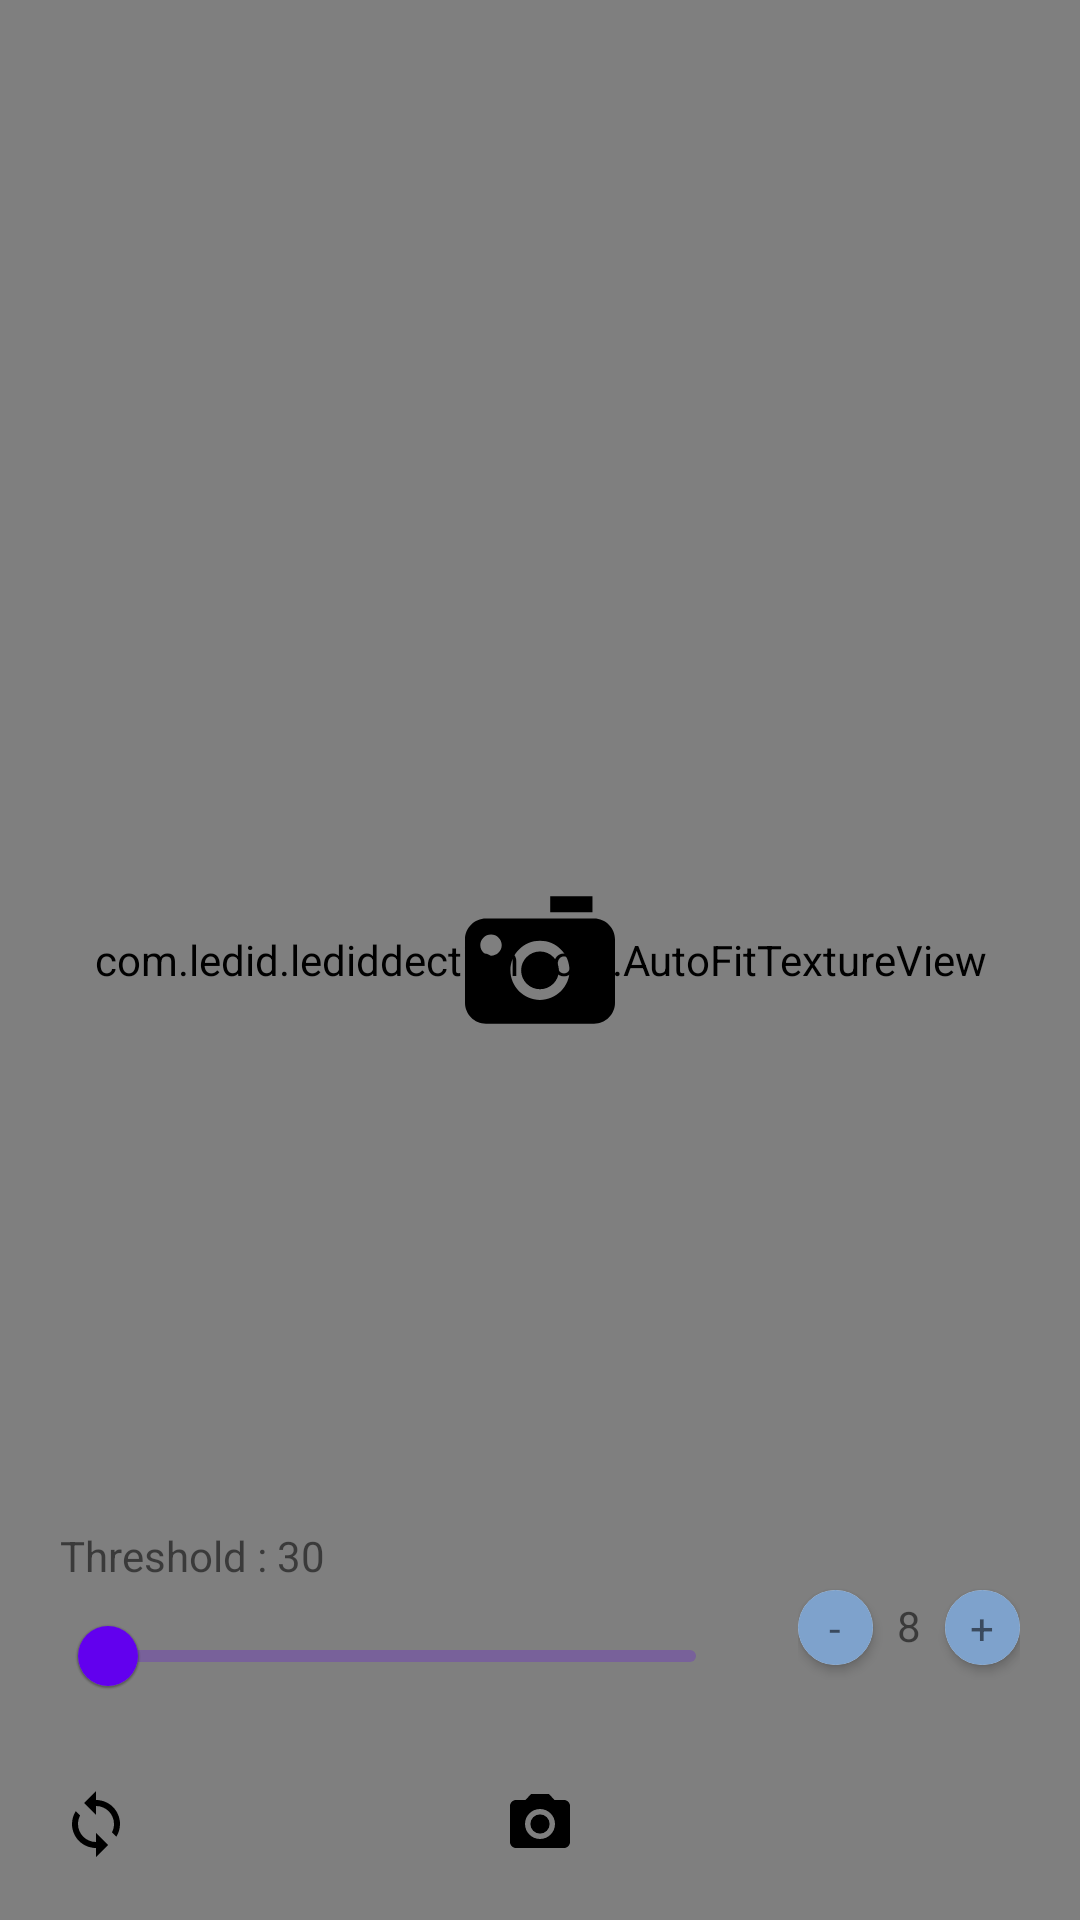

Named icons in this screenshot (1080 × 1920) and their centers, point (x, y):
camera rotation: point (96, 1824)
